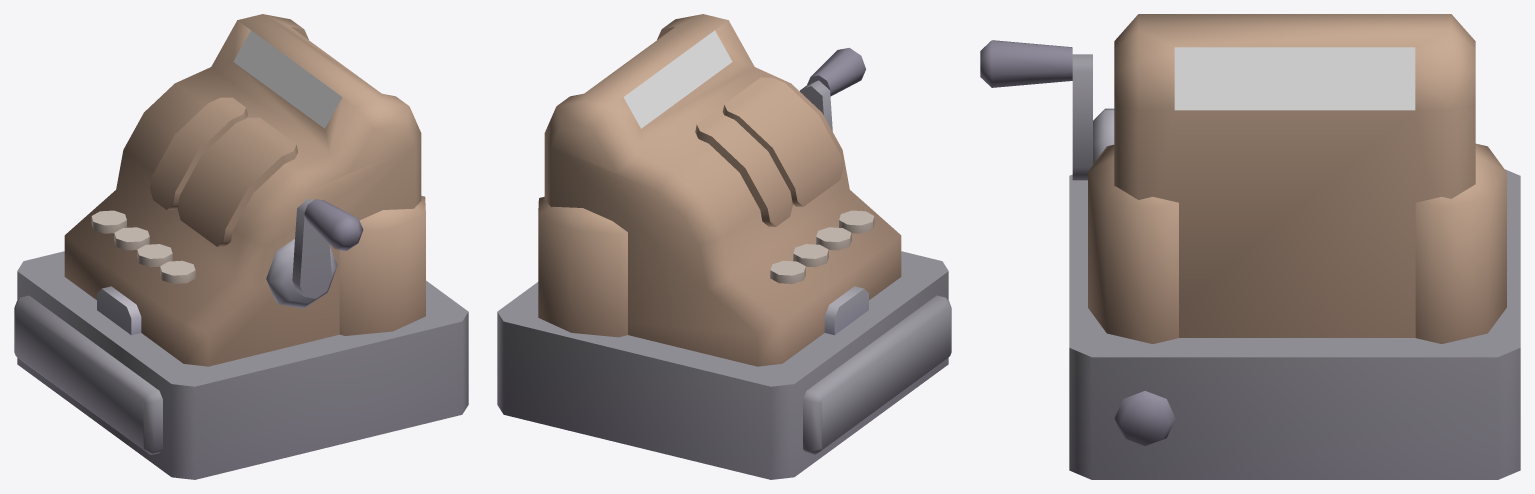
File: cash-register-pos-retro.glb
3 renders of one model, left to right at view 1: azimuth 30°, elevation 25°; view 2: azimuth 150°, elevation 25°; view 3: azimuth 270°, elevation 25°, orthographic. The views are drawn at different scales.
Visible parts, largest first — view 1: cash-register-pos-retro; view 2: cash-register-pos-retro; view 3: cash-register-pos-retro.
Part boxes in pixels (bbox=[...]): cash-register-pos-retro: bbox=[14, 14, 468, 479]; cash-register-pos-retro: bbox=[497, 14, 951, 479]; cash-register-pos-retro: bbox=[980, 14, 1520, 479].
Bounding box in the file's own units: 0.4032 × 0.3712 × 0.4488.
